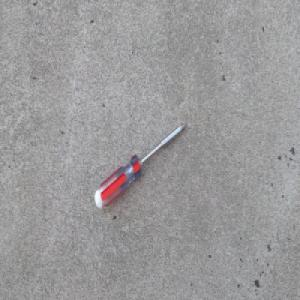Screwdriver: (93, 122, 189, 211)
